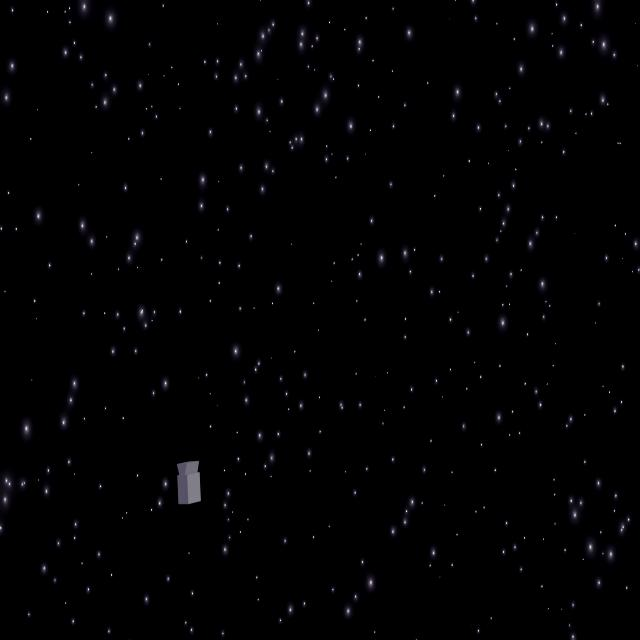large_debris: (175, 460, 202, 506)
